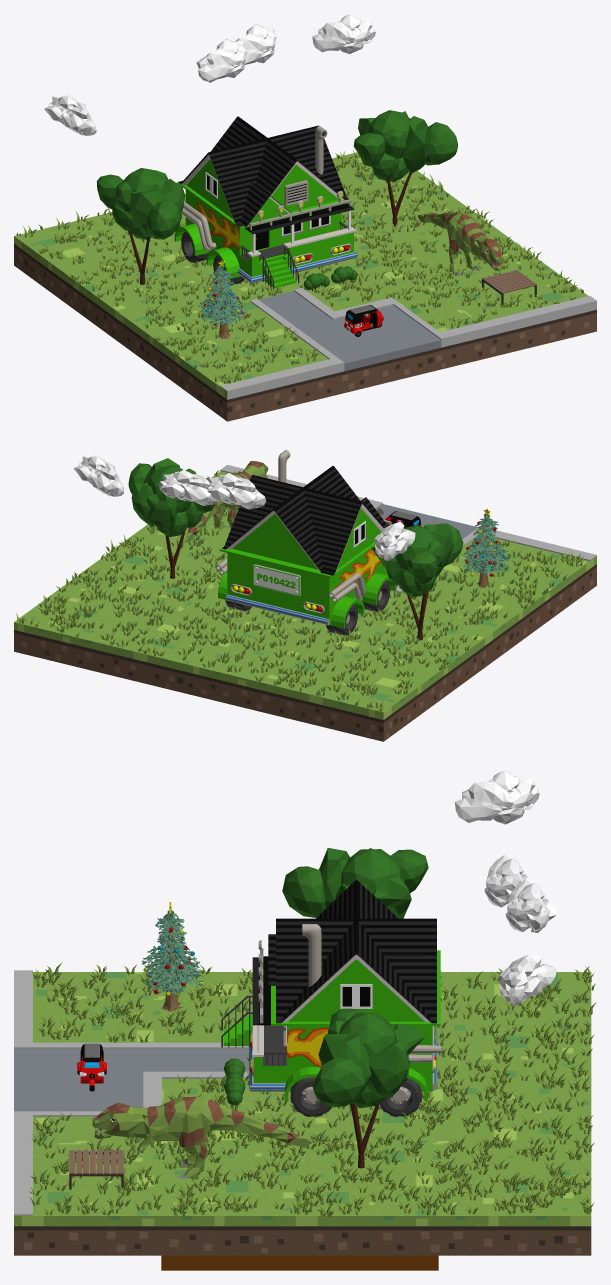
3 renders of one model, top to bottom at view 1: azimuth 30°, elevation 25°; view 2: azimuth 150°, elevation 25°; view 3: azimuth 270°, elevation 25°, orthographic. The views are drawn at different scales.
Parts seen in each view (by area): view 1: Cube.006, Cube.1474, Circle.012_Grass_0.192, Cube.007, tree, tree.001, ANIMAL_TREX, OBJRANDOM_CHRISTMAS_TREE, VEHICLES_TUC_TUC, Cube.009; view 2: Cube.006, Cube.1474, Circle.012_Grass_0.192, Cube.007, tree.001, tree, OBJRANDOM_CHRISTMAS_TREE, ANIMAL_TREX; view 3: Cube.006, Circle.012_Grass_0.192, Cube.1474, tree, Cube.007, ANIMAL_TREX, tree.001, UNDERGROUND_ART_PIECE_VAN_GOGH, OBJRANDOM_CHRISTMAS_TREE, Cube.009, VEHICLES_TUC_TUC.
Part boxes in pixels (x1,y1,x2,y2): Cube.006: [14, 152, 596, 421]; Cube.1474: [174, 116, 357, 289]; Circle.012_Grass_0.192: [16, 150, 583, 383]; Cube.007: [44, 14, 375, 135]; tree: [353, 110, 457, 226]; tree.001: [96, 168, 184, 284]; ANIMAL_TREX: [417, 211, 503, 275]; OBJRANDOM_CHRISTMAS_TREE: [197, 260, 247, 338]; VEHICLES_TUC_TUC: [344, 304, 383, 336]; Cube.009: [482, 270, 536, 304]; Cube.006: [14, 465, 596, 741]; Cube.1474: [216, 450, 396, 635]; Circle.012_Grass_0.192: [16, 470, 583, 711]; Cube.007: [74, 455, 415, 560]; tree.001: [372, 523, 463, 640]; tree: [128, 458, 215, 578]; OBJRANDOM_CHRISTMAS_TREE: [461, 508, 508, 588]; ANIMAL_TREX: [183, 461, 268, 542]; Cube.006: [14, 970, 591, 1255]; Circle.012_Grass_0.192: [29, 962, 596, 1217]; Cube.1474: [221, 880, 441, 1116]; tree: [312, 1008, 425, 1168]; Cube.007: [454, 770, 556, 1005]; ANIMAL_TREX: [92, 1096, 312, 1178]; tree.001: [282, 848, 428, 918]; UNDERGROUND_ART_PIECE_VAN_GOGH: [161, 1255, 438, 1270]; OBJRANDOM_CHRISTMAS_TREE: [141, 902, 204, 1012]; Cube.009: [69, 1149, 123, 1189]; VEHICLES_TUC_TUC: [77, 1043, 106, 1091].
Bounding box in the file's own units: 4071 × 2301 × 4040.
43 materials, 5 textured.
